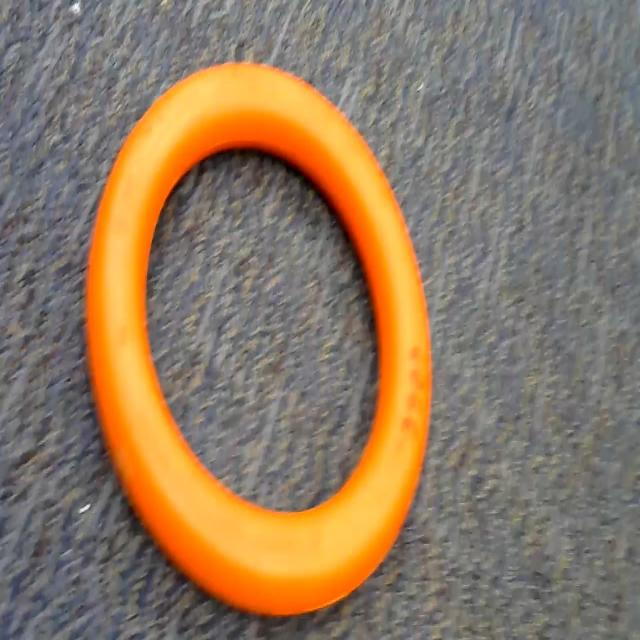note: (64, 61, 438, 640)
